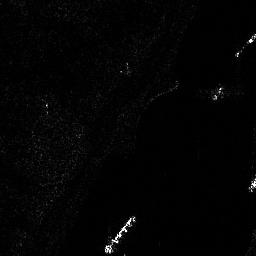ship: (103, 215, 136, 254)
